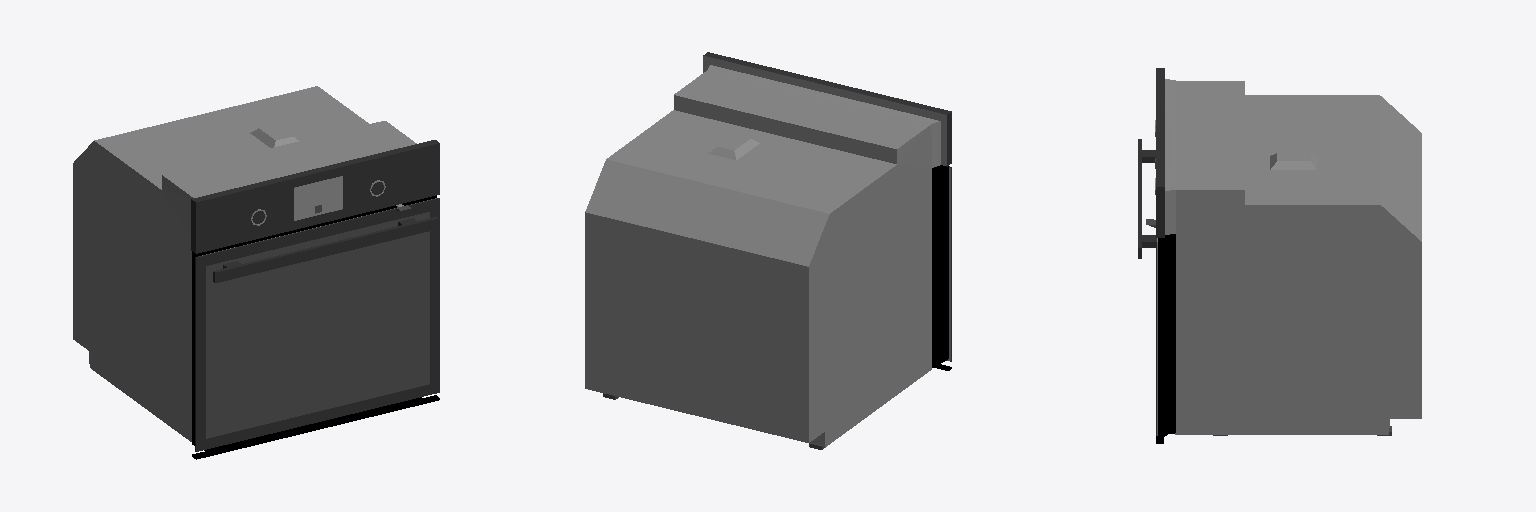
Rendered from IKEA.ART.00300918.obj.
3 renders of one model, left to right at view 1: azimuth 30°, elevation 25°; view 2: azimuth 150°, elevation 25°; view 3: azimuth 270°, elevation 25°, orthographic.
Visible parts, largest first — view 1: model_model.066; view 2: model_model.066; view 3: model_model.066.
Part boxes in pixels (bbox=[...]): model_model.066: bbox=[73, 86, 439, 459]; model_model.066: bbox=[585, 52, 951, 449]; model_model.066: bbox=[1138, 68, 1421, 443].
Bounding box in the file's own units: 0.595 × 0.5997 × 0.5997.